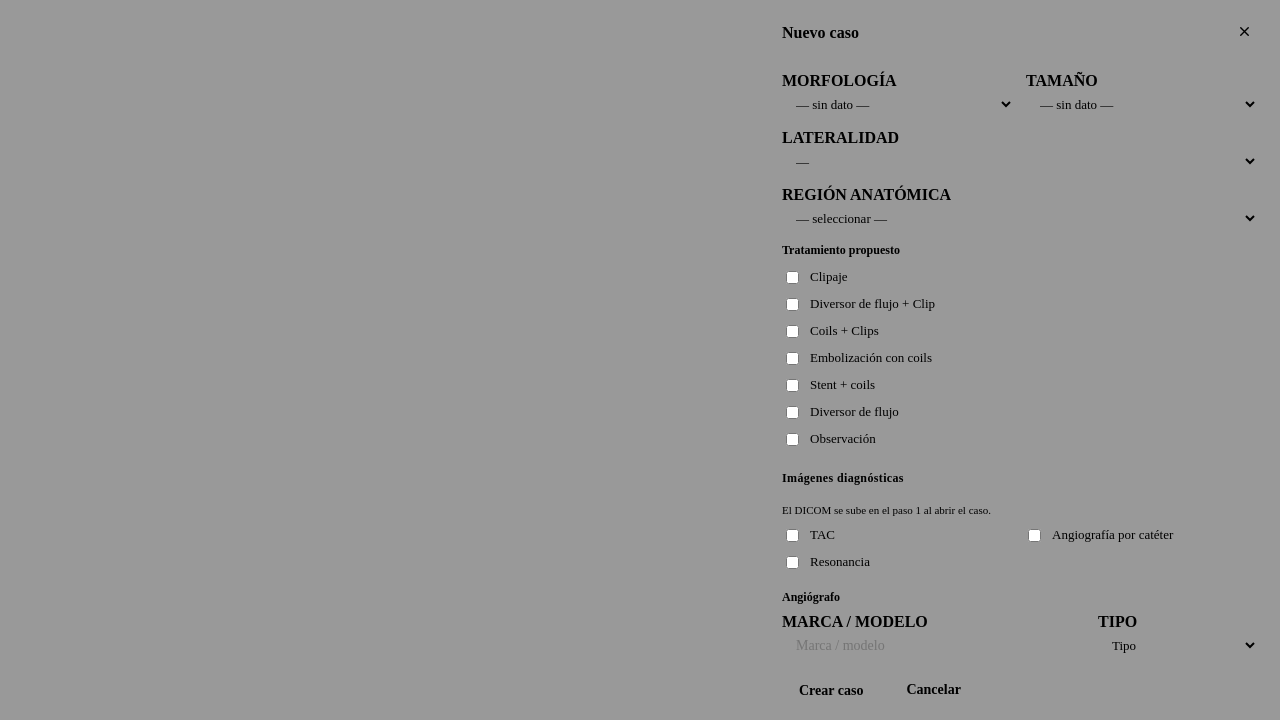
Test case: el formulario del caso (F2) › sin diagnóstico, el error sale junto al campo, lo marca y le da el foco
(page scrolled)
Step 1. Click the button "Crear caso" → (831, 691), box [782, 682, 880, 700]
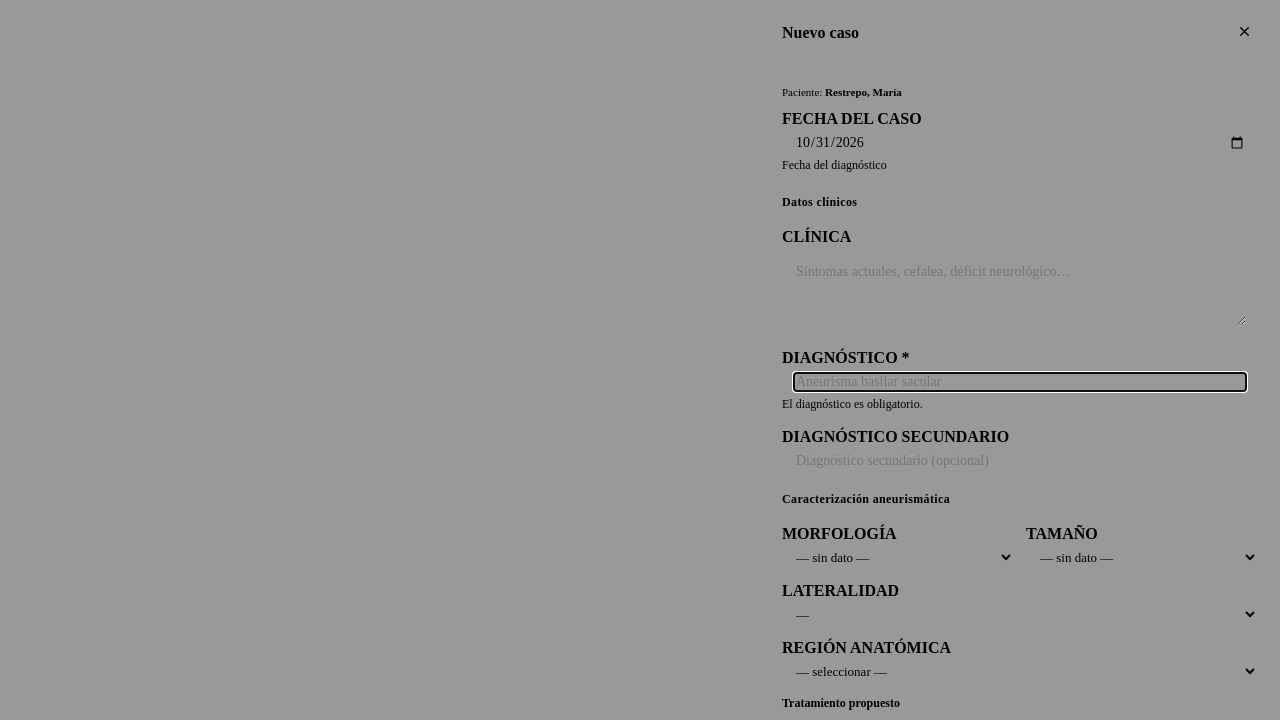
Check: the text "El diagnóstico es obligatorio." is shown, box [782, 397, 923, 411]
